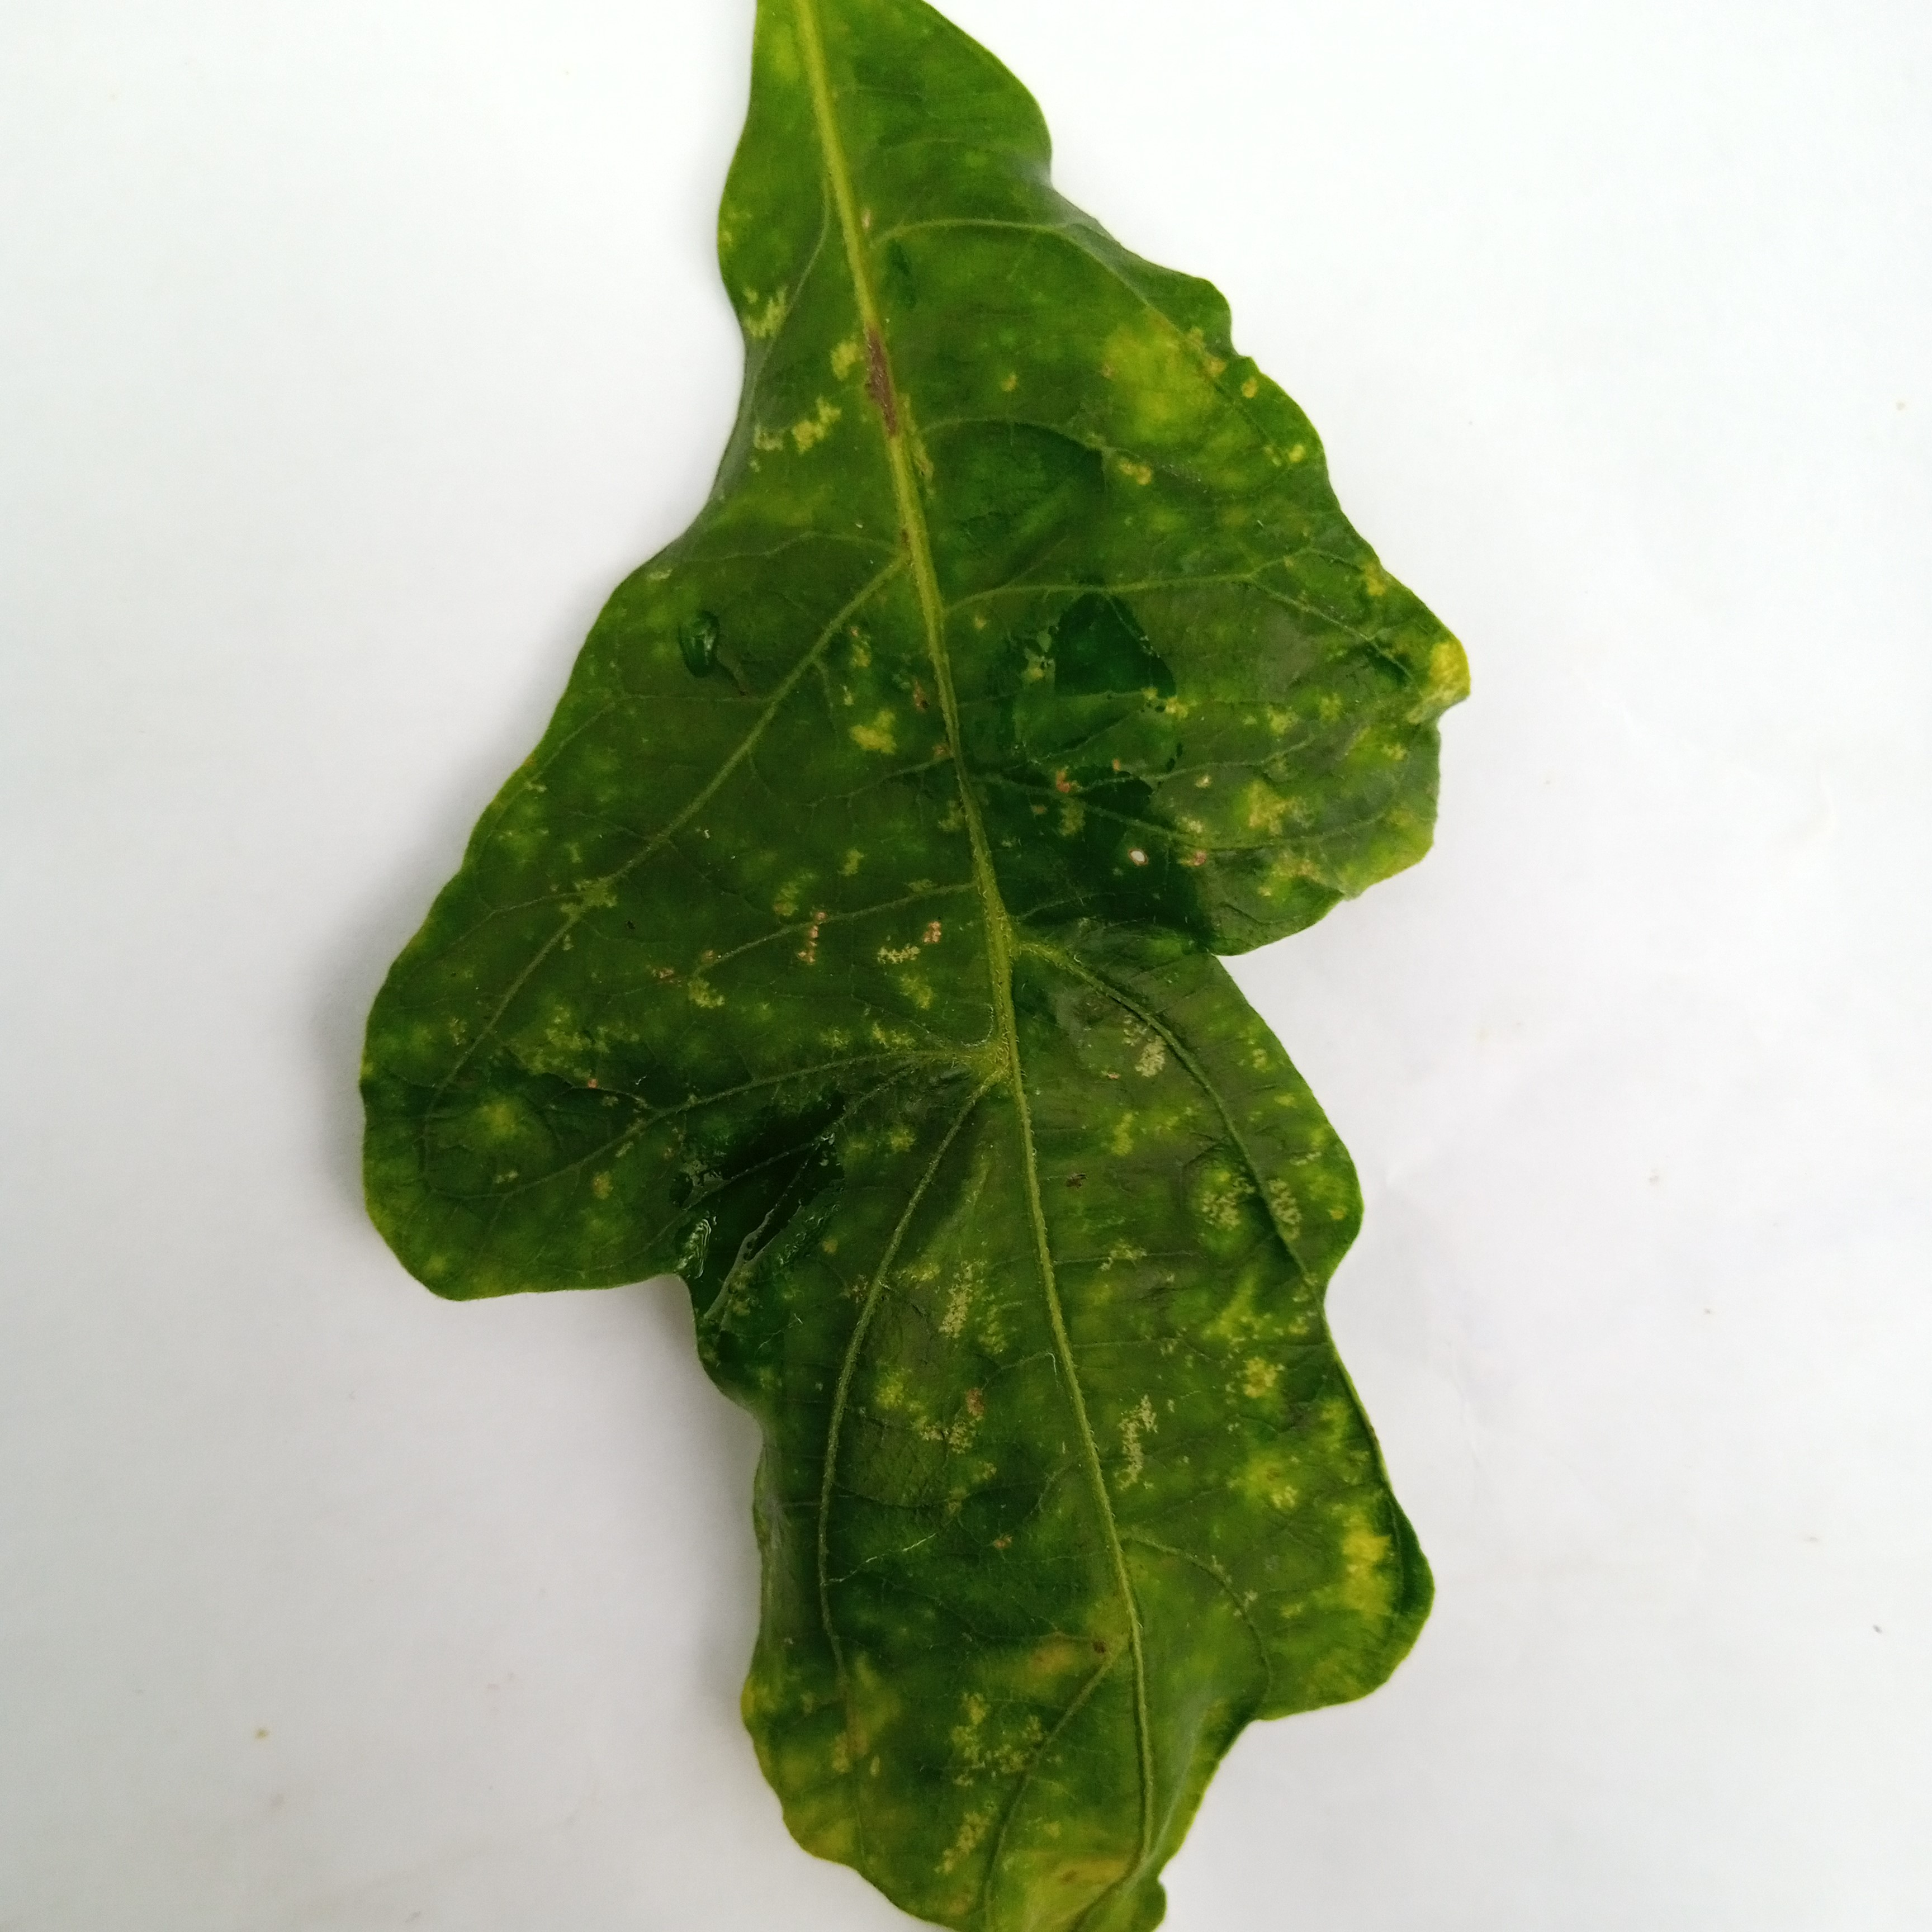Leaf: (195, 4, 1734, 1932)
